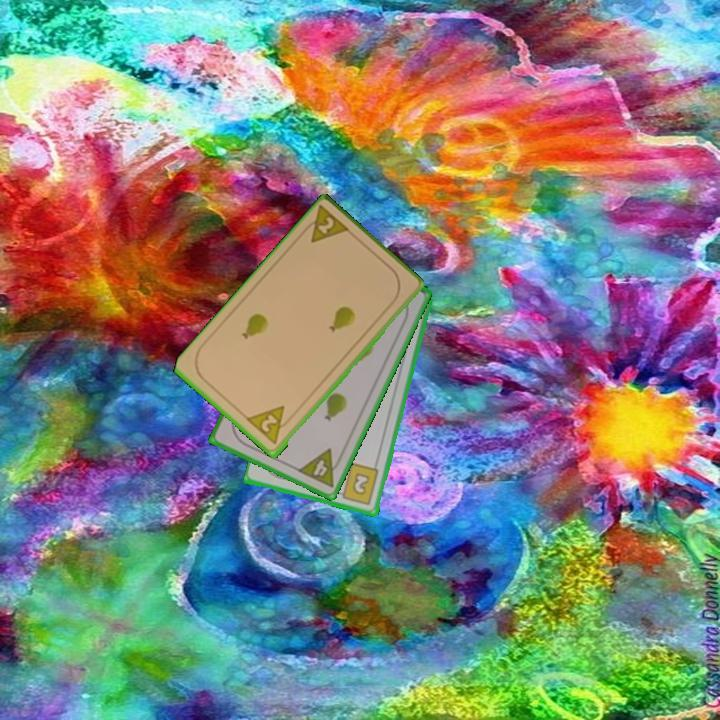2b: (333, 460, 382, 508)
2p: (297, 203, 354, 247), (244, 402, 296, 449)
4p: (294, 445, 346, 491)
